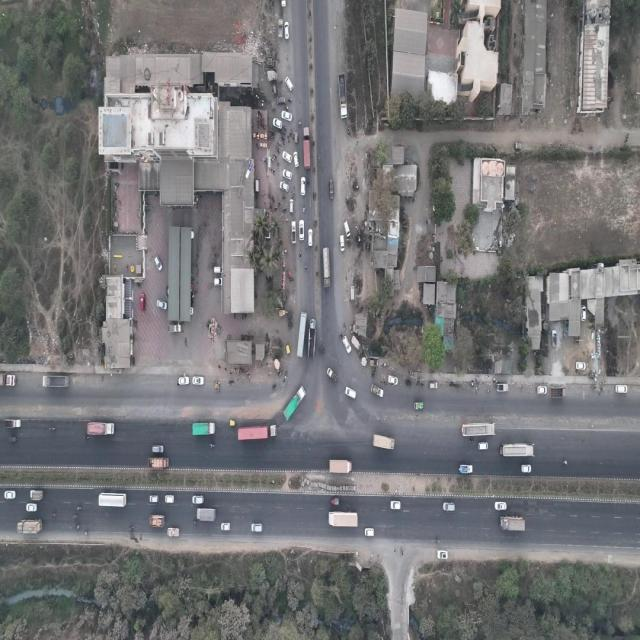3W: (278, 310, 287, 318), (330, 498, 340, 505), (229, 419, 237, 427), (8, 436, 18, 442), (288, 317, 292, 331), (287, 310, 293, 318), (287, 343, 290, 355)
Bus: (296, 310, 307, 360), (499, 443, 535, 458), (460, 423, 496, 437), (98, 492, 127, 508)
Cars: (342, 334, 352, 354), (344, 386, 356, 399), (280, 110, 292, 122), (178, 374, 190, 385), (192, 375, 204, 386), (156, 299, 168, 310), (272, 118, 283, 130), (328, 178, 334, 200), (615, 384, 628, 394), (282, 168, 292, 181), (286, 76, 294, 92), (298, 220, 304, 241), (26, 502, 37, 513), (4, 490, 16, 500), (193, 495, 205, 505), (152, 444, 164, 454), (154, 256, 162, 271), (443, 502, 455, 512), (282, 152, 292, 164), (343, 222, 351, 237), (388, 374, 398, 386), (279, 180, 289, 192), (494, 502, 507, 511), (551, 329, 557, 348), (252, 522, 262, 533), (437, 550, 448, 560), (390, 500, 401, 510), (140, 294, 146, 312), (284, 22, 290, 40), (580, 305, 586, 322), (575, 362, 586, 371), (220, 522, 232, 530), (292, 152, 298, 168), (149, 494, 159, 503), (521, 464, 531, 473), (364, 527, 374, 536), (308, 228, 313, 246), (537, 386, 547, 394), (478, 442, 488, 450), (350, 286, 355, 302), (428, 381, 438, 389), (289, 198, 294, 214), (340, 234, 344, 253), (276, 97, 286, 104), (166, 495, 174, 503)
LCV: (326, 366, 338, 384), (371, 382, 384, 398), (167, 526, 181, 538), (5, 420, 21, 430), (30, 489, 43, 501), (291, 221, 297, 244), (167, 324, 181, 333), (496, 382, 508, 392), (267, 71, 278, 81), (460, 465, 472, 474), (278, 20, 283, 39), (414, 402, 423, 410), (214, 266, 222, 274), (214, 278, 222, 285)
M2W: (400, 547, 404, 557), (209, 443, 215, 448), (299, 250, 302, 260), (49, 427, 56, 431), (302, 205, 305, 214), (72, 515, 78, 519), (50, 513, 56, 517), (74, 525, 80, 529), (83, 532, 89, 536), (129, 527, 135, 531), (83, 436, 89, 440), (434, 540, 440, 544), (307, 179, 310, 187), (193, 520, 198, 524), (563, 460, 568, 464), (305, 263, 307, 272), (299, 120, 301, 129), (77, 506, 81, 510), (469, 438, 473, 442)
MAV: (237, 426, 278, 440)
Truck: (282, 384, 306, 423), (328, 510, 358, 528), (337, 73, 347, 120), (500, 516, 526, 532), (42, 373, 69, 388), (372, 434, 395, 451), (322, 247, 331, 289), (87, 423, 114, 436), (329, 459, 352, 474), (16, 521, 42, 534), (308, 317, 316, 358), (303, 126, 310, 171), (192, 422, 215, 435), (148, 456, 170, 469), (196, 508, 216, 522), (148, 512, 165, 528), (550, 387, 566, 398)
